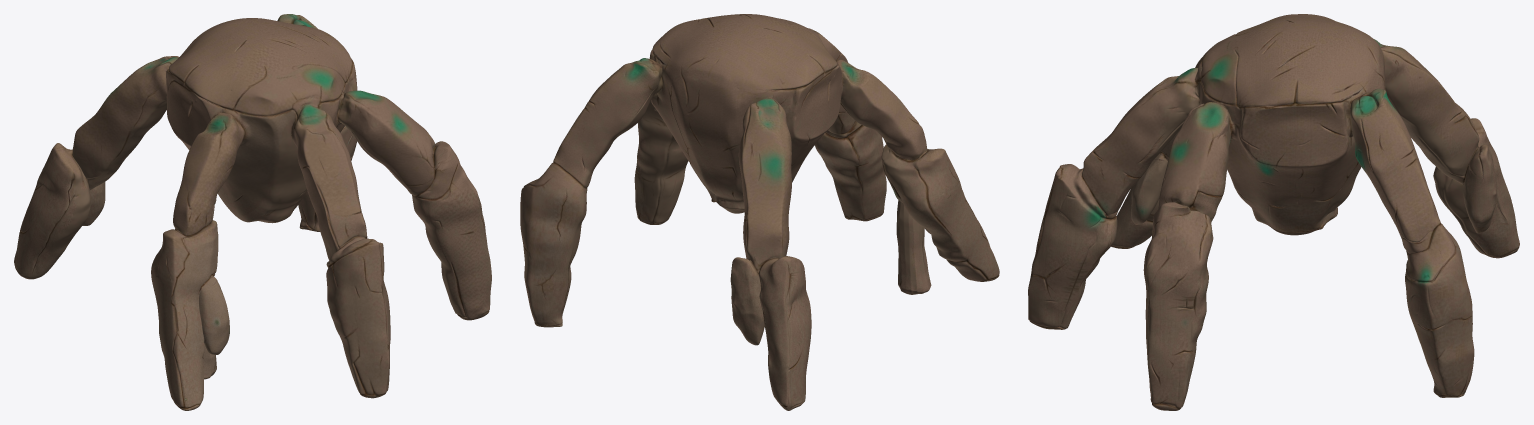
Rendered from rocky.glb.
3 views of the same model, side by side, from view 1: azimuth 30°, elevation 25°; view 2: azimuth 150°, elevation 25°; view 3: azimuth 270°, elevation 25° (orthographic). The views are drawn at different scales.
Visible parts, largest first — view 1: Object_7, Object_6, Object_9, Object_8, Object_5, Object_2, Object_3, Object_10, Object_4; view 2: Object_2, Object_4, Object_3, Object_5, Object_6, Object_9, Object_8, Object_7, Object_10; view 3: Object_5, Object_7, Object_3, Object_8, Object_2, Object_4, Object_6, Object_9, Object_10.
Boxes of the visible parts, x1,y1,x2,y2 form: Object_7: (159,112,491,410); Object_6: (151,21,483,410); Object_9: (153,62,427,319); Object_8: (160,110,452,410); Object_5: (149,18,356,223); Object_2: (14,114,320,279); Object_3: (29,56,357,269); Object_10: (166,27,357,214); Object_4: (91,14,317,210); Object_2: (520,121,811,410); Object_4: (533,39,808,213); Object_3: (520,64,811,354); Object_5: (649,14,847,213); Object_6: (635,14,999,281); Object_9: (635,17,961,294); Object_8: (637,110,999,294); Object_7: (634,28,997,281); Object_10: (740,16,920,199); Object_5: (1229,14,1377,235); Object_7: (1082,76,1216,410); Object_3: (1362,44,1477,397); Object_8: (1028,84,1216,340); Object_2: (1402,103,1519,397); Object_4: (1247,24,1458,276); Object_6: (1101,19,1337,409); Object_9: (1173,31,1255,401); Object_10: (1211,14,1333,219).
Size of the model in its own units: 0.8394 by 0.6664 by 1.
Materials: 1 (1 with a texture image).
